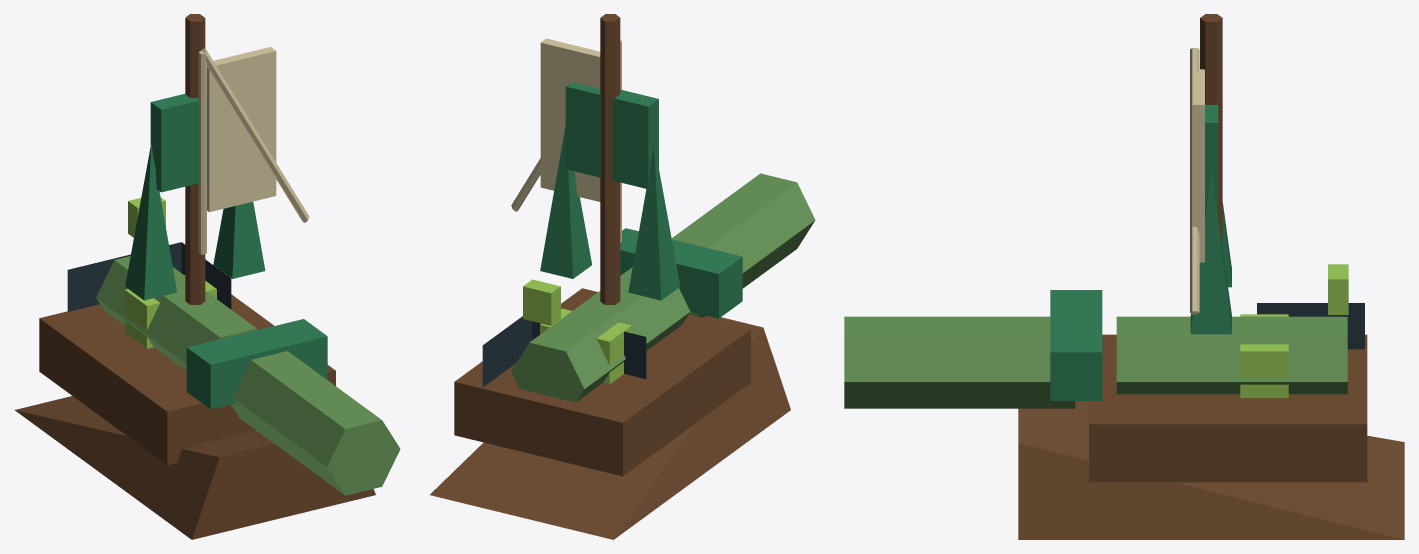
Rendered from heavy-warship.obj.
3 views of the same model, side by side, from view 1: azimuth 30°, elevation 25°; view 2: azimuth 150°, elevation 25°; view 3: azimuth 270°, elevation 25° (orthographic). The views are drawn at different scales.
Parts seen in each view (by area): view 1: ship; view 2: ship; view 3: ship.
Part boxes in pixels (box(x1,y1,x2,y2)): ship: box(15, 14, 400, 539); ship: box(430, 14, 815, 539); ship: box(844, 14, 1404, 539).
Size of the model in its own units: 1.08 by 2.26 by 2.43.
